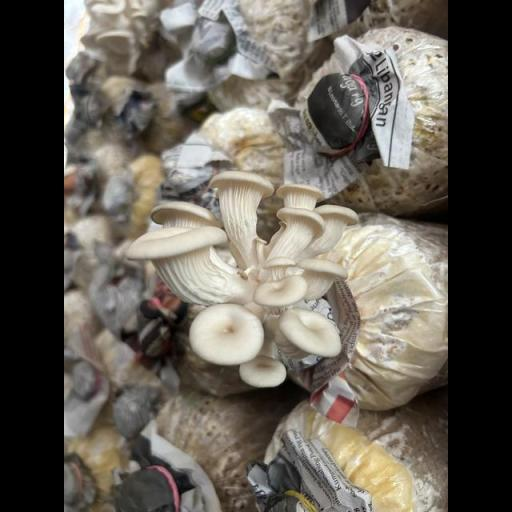White Oyster Mushroom: (115, 161, 367, 392)
